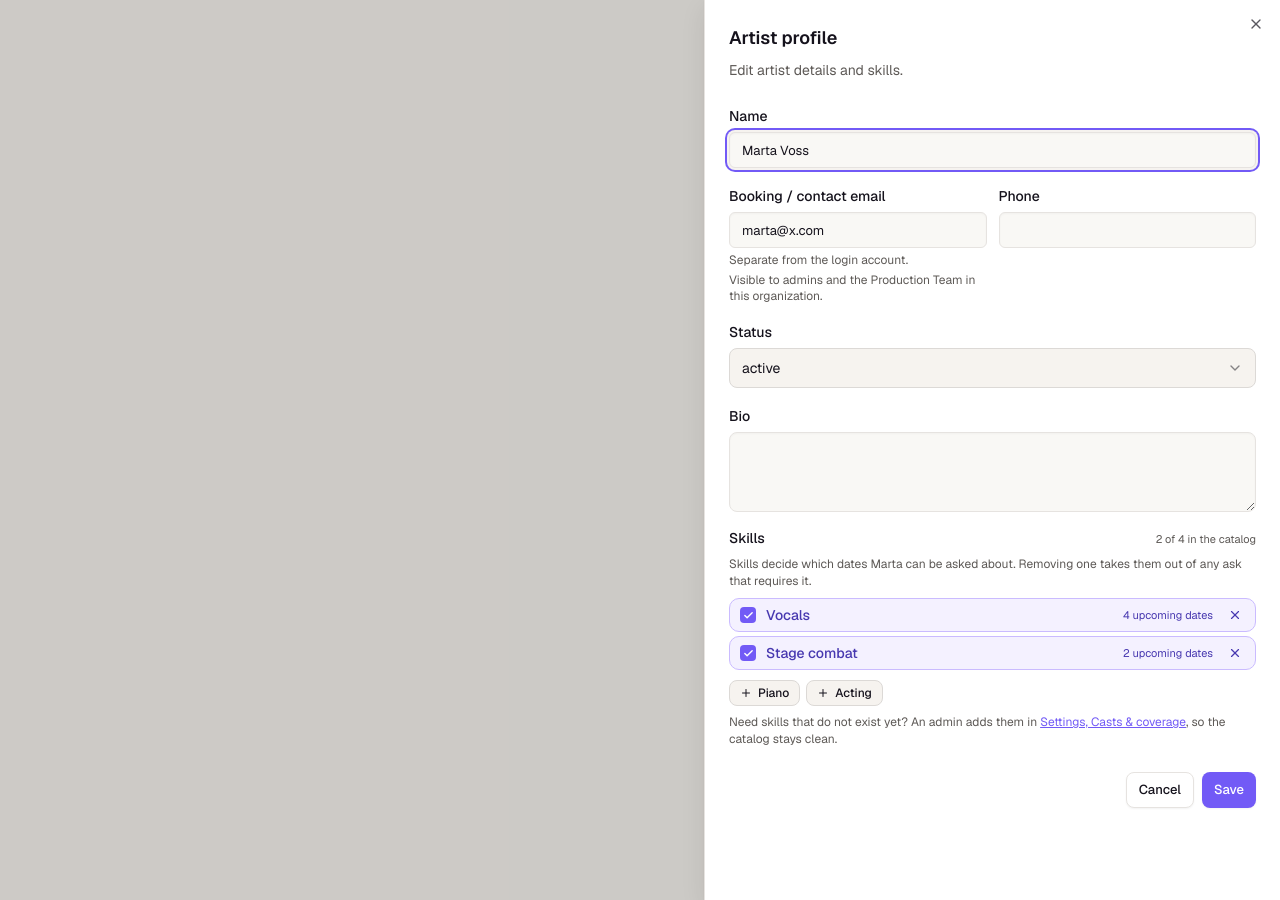
Test: ArtistProfileSheet — skills editor (design 1i) › computes the save diff from the baseline captured at seed time, not a live artistSkills refetch (Finding 3 regression)
Later steps or results of the test are not shown.
Click the button named "Remove Stage combat".
click(1235, 653)  # box x1=1223 y1=641 x2=1247 y2=665
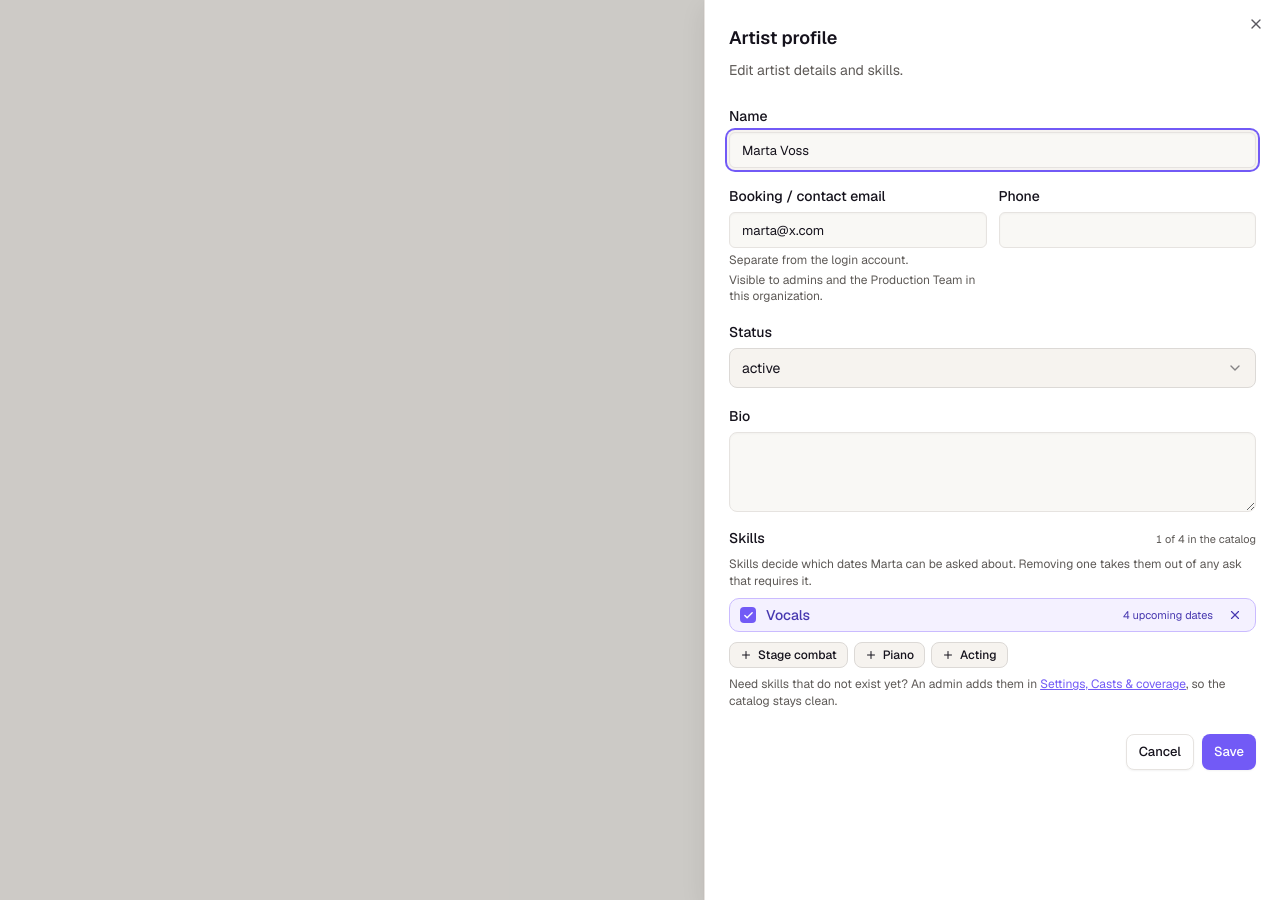
Expected: the element with test id "skill-row-s-combat" is gone
